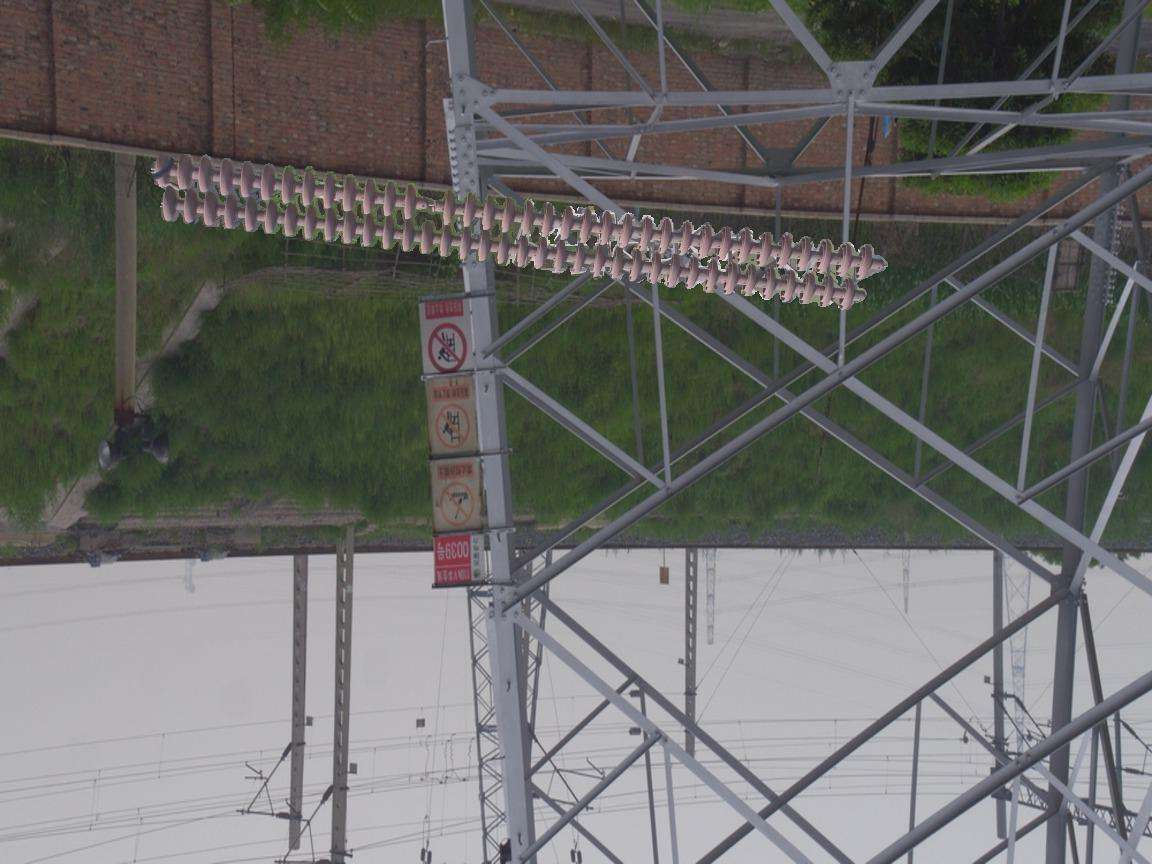insulator: (145, 147, 875, 314)
insulator_stringdrop: (400, 181, 460, 230)
